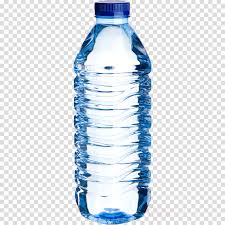available: (73, 1, 152, 225)
